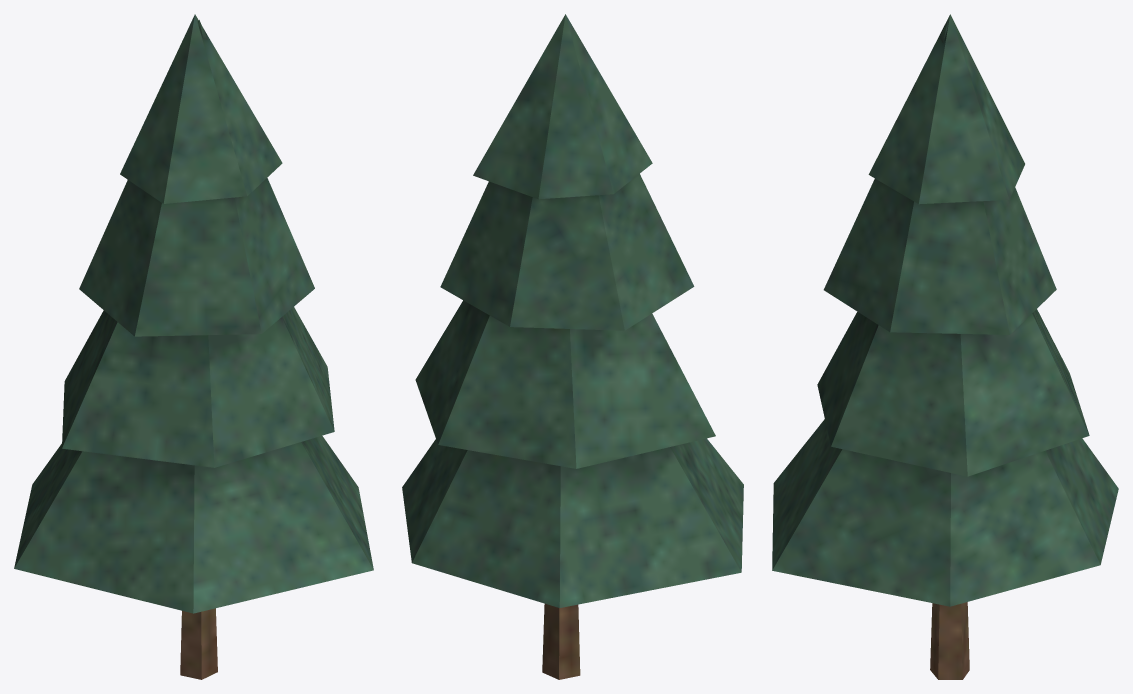
The model's file is SM_Pine_Small_B.fbx.
The picture shows the model from 3 angles, left to right: view 1: azimuth 30°, elevation 25°; view 2: azimuth 150°, elevation 25°; view 3: azimuth 270°, elevation 25°; orthographic projection.
Visible parts, largest first — view 1: SM_Pine_Small_B; view 2: SM_Pine_Small_B; view 3: SM_Pine_Small_B.
Part boxes in pixels (left/top/right/bottom): SM_Pine_Small_B: left=14, top=14, right=373, bottom=679; SM_Pine_Small_B: left=402, top=14, right=743, bottom=679; SM_Pine_Small_B: left=772, top=14, right=1118, bottom=679.
Size of the model in its own units: 326 by 600 by 287.
1 material, 1 textured.
